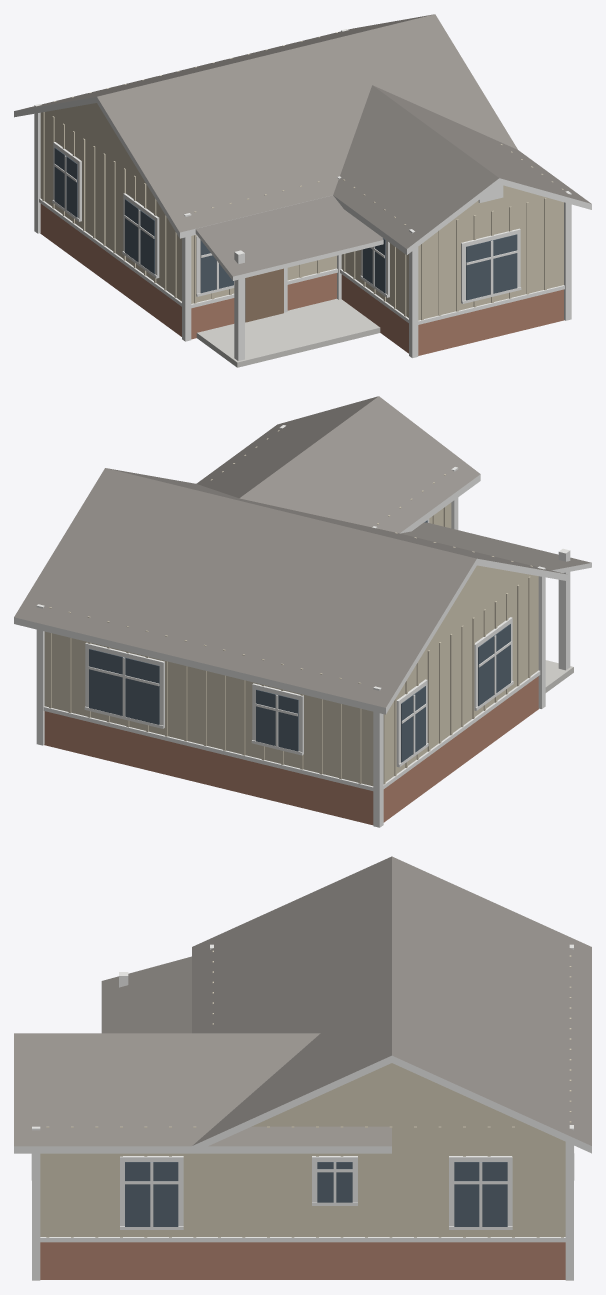
File: plum-craftsman.glb
The picture shows the model from 3 angles, top to bottom: view 1: azimuth 30°, elevation 25°; view 2: azimuth 150°, elevation 25°; view 3: azimuth 270°, elevation 25°; orthographic projection. The views are drawn at different scales.
Parts seen in each view (by area): view 1: The Plum (craftsman); view 2: The Plum (craftsman); view 3: The Plum (craftsman).
Boxes of the visible parts, bbox=[...] form: The Plum (craftsman): bbox=[14, 14, 591, 367]; The Plum (craftsman): bbox=[14, 396, 591, 827]; The Plum (craftsman): bbox=[14, 856, 591, 1280].
Bounding box in the file's own units: 8.08 × 4.42 × 9.9.
